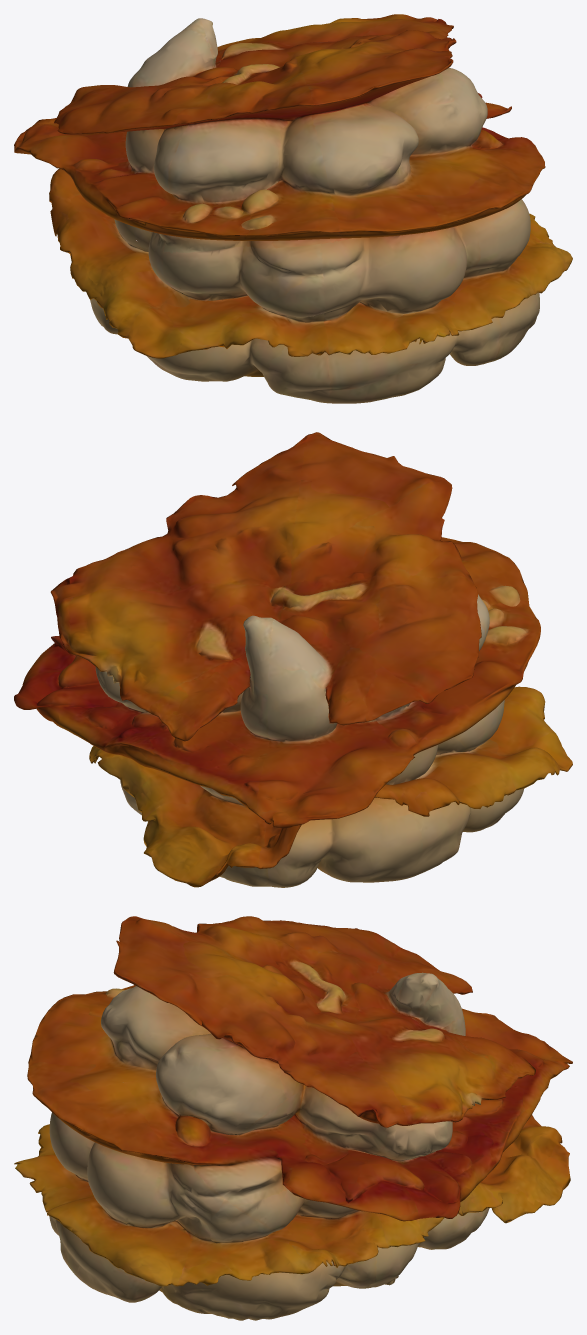
Rendered from mille-feuille.glb.
3 views of the same model, one above another, from view 1: azimuth 30°, elevation 25°; view 2: azimuth 150°, elevation 25°; view 3: azimuth 270°, elevation 25° (orthographic).
Parts seen in each view (by area): view 1: tripo_node_9879ccf8-b029-4f5a-815d-a11b0158ce1c; view 2: tripo_node_9879ccf8-b029-4f5a-815d-a11b0158ce1c; view 3: tripo_node_9879ccf8-b029-4f5a-815d-a11b0158ce1c.
Boxes of the visible parts, x1,y1,x2,y2 form: tripo_node_9879ccf8-b029-4f5a-815d-a11b0158ce1c: (14,14,572,403); tripo_node_9879ccf8-b029-4f5a-815d-a11b0158ce1c: (14,432,572,887); tripo_node_9879ccf8-b029-4f5a-815d-a11b0158ce1c: (14,916,572,1320).
Bounding box in the file's own units: 0.8871 × 0.582 × 0.9807.
1 material, 1 textured.
